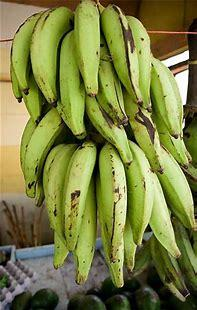banana: (3, 0, 197, 298), (14, 129, 197, 285), (10, 7, 197, 146)
